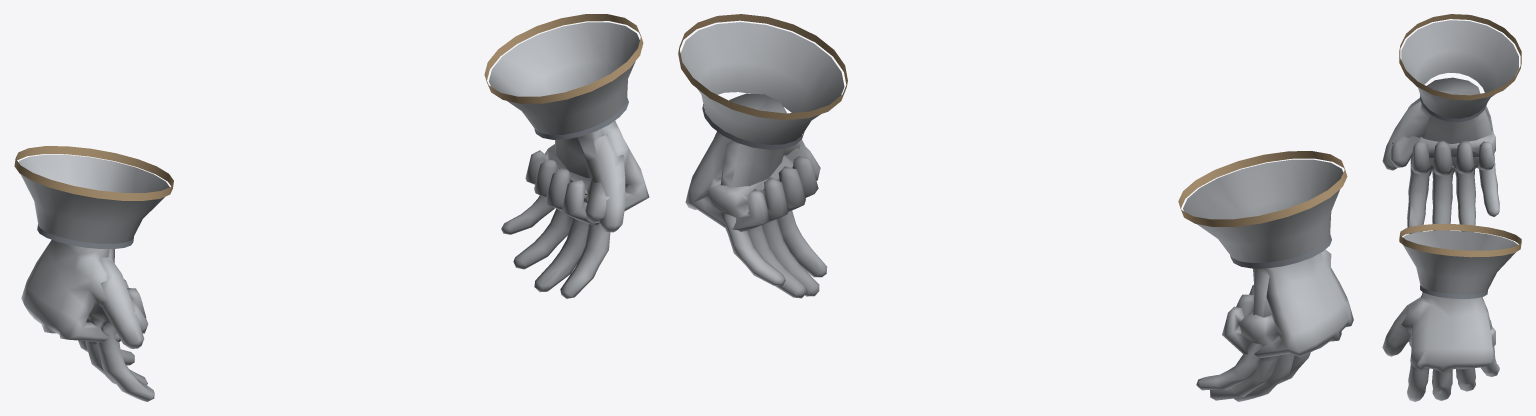
Rendered from g_ironplate_d.glb.
3 renders of one model, left to right at view 1: azimuth 30°, elevation 25°; view 2: azimuth 150°, elevation 25°; view 3: azimuth 270°, elevation 25°, orthographic. The views are drawn at different scales.
Visible parts, largest first — view 1: ArmL_Gauntlet, ArmR_Gauntlet, ArmL_HandOpen, ArmR_Hand, ArmL_Hand, ArmR_HandOpen; view 2: ArmL_Gauntlet, ArmR_Gauntlet, ArmR_Hand, ArmL_HandOpen, ArmL_Hand, ArmR_HandOpen; view 3: ArmR_Gauntlet, ArmR_HandOpen, ArmL_Gauntlet, ArmL_Hand, ArmR_Hand, ArmL_HandOpen.
Part boxes in pixels (left/top/right/bottom): ArmL_Gauntlet: left=484, top=14, right=643, bottom=139; ArmR_Gauntlet: left=14, top=146, right=173, bottom=248; ArmL_HandOpen: left=501, top=129, right=625, bottom=298; ArmR_Hand: left=21, top=240, right=148, bottom=342; ArmL_Hand: left=525, top=120, right=649, bottom=225; ArmR_HandOpen: left=78, top=249, right=154, bottom=401; ArmL_Gauntlet: left=678, top=14, right=847, bottom=149; ArmR_Gauntlet: left=1178, top=151, right=1347, bottom=268; ArmR_Hand: left=1222, top=249, right=1353, bottom=358; ArmL_HandOpen: left=720, top=98, right=827, bottom=298; ArmL_Hand: left=685, top=93, right=820, bottom=231; ArmR_HandOpen: left=1196, top=268, right=1310, bottom=401; ArmR_Gauntlet: left=1399, top=14, right=1521, bottom=122; ArmR_HandOpen: left=1382, top=88, right=1499, bottom=233; ArmL_Gauntlet: left=1399, top=224, right=1521, bottom=298; ArmL_Hand: left=1401, top=292, right=1495, bottom=372; ArmR_Hand: left=1390, top=77, right=1495, bottom=176; ArmL_HandOpen: left=1382, top=292, right=1499, bottom=401.
Size of the model in its own units: 0.8055 by 0.3001 by 0.1997.
